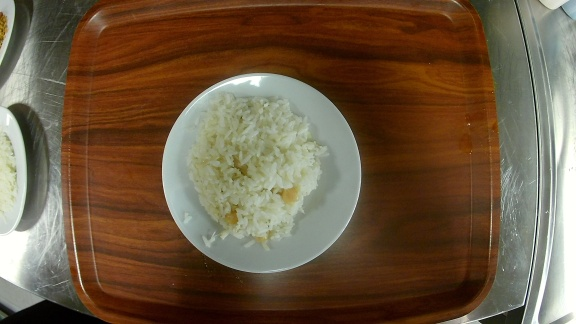nohutlupilav: (161, 72, 364, 275)
